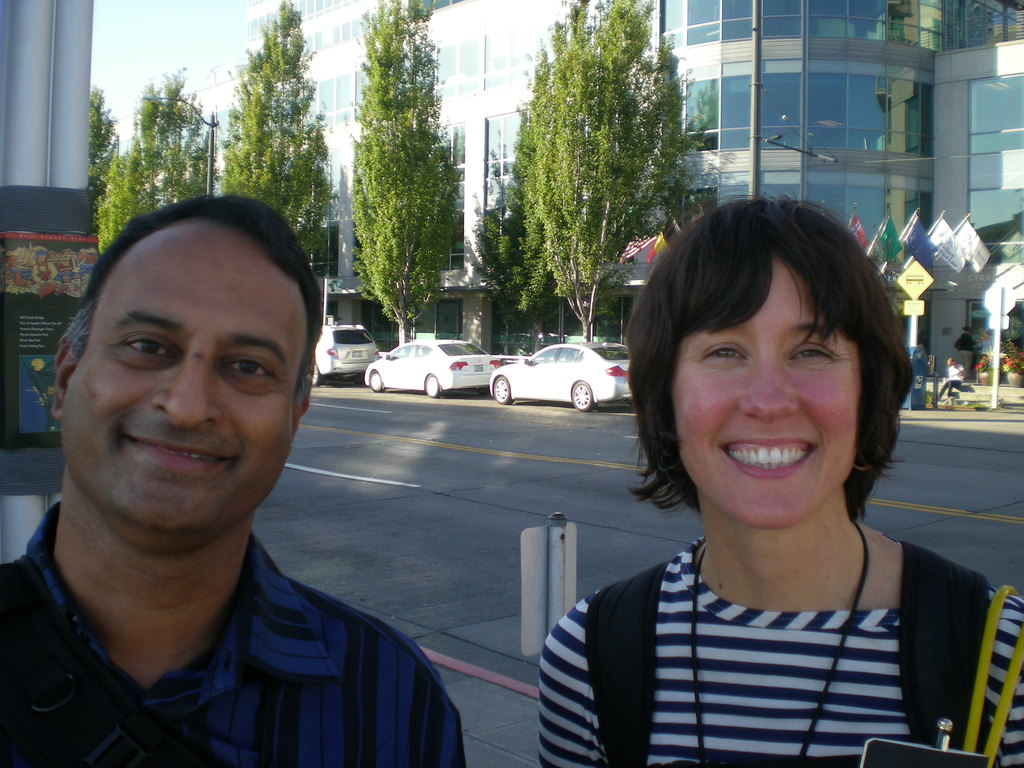Human-face: (60, 213, 303, 543), (673, 261, 853, 529)
